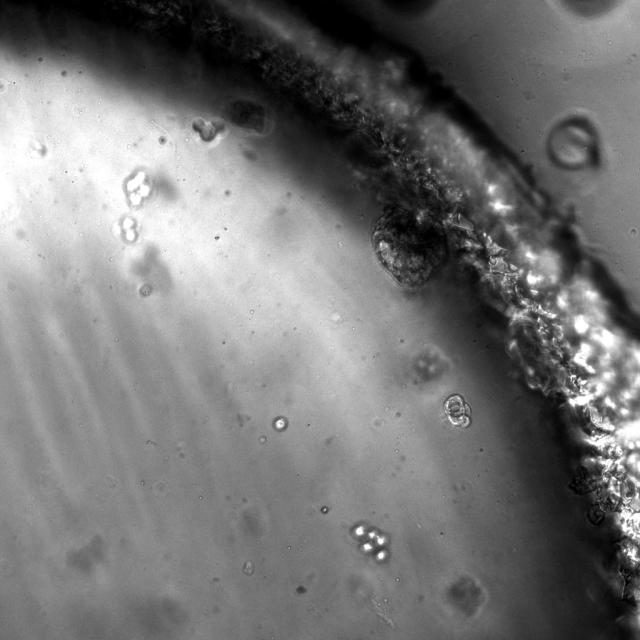organoid: (372, 205, 447, 289), (446, 575, 486, 617), (350, 522, 389, 560), (227, 100, 267, 133), (412, 347, 447, 380), (123, 170, 152, 208), (443, 394, 471, 427), (192, 116, 226, 142), (115, 215, 138, 243), (272, 415, 288, 431), (295, 584, 308, 594), (320, 505, 329, 514)
